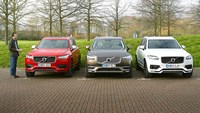car: (134, 36, 193, 78), (26, 35, 81, 77), (86, 36, 131, 76)
